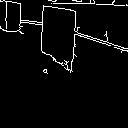cube: (34, 3, 102, 78), (0, 0, 25, 38)
